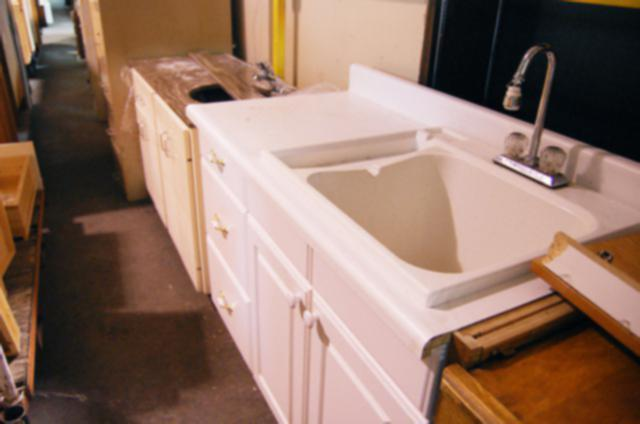Lavaplatos: (266, 42, 604, 300)
